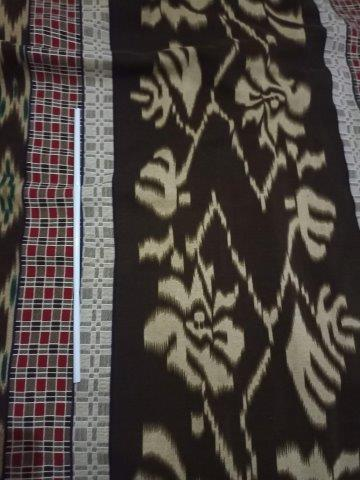sedotan: (73, 108, 80, 384)
